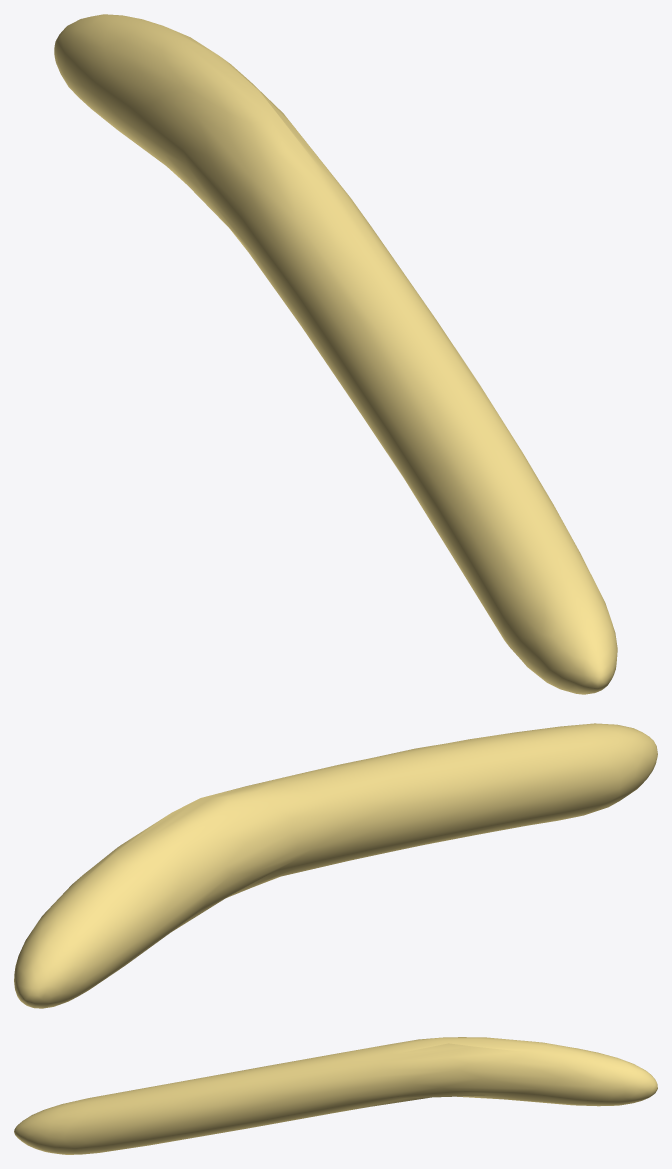
The model's file is fma62064-r_mm2968m.glb.
3 views of the same model, one above another, from view 1: azimuth 30°, elevation 25°; view 2: azimuth 150°, elevation 25°; view 3: azimuth 270°, elevation 25° (orthographic). The views are drawn at different scales.
Visible parts, largest first — view 1: FMA62064-R_MM2968M; view 2: FMA62064-R_MM2968M; view 3: FMA62064-R_MM2968M.
Part boxes in pixels (x1=…): FMA62064-R_MM2968M: x1=54, y1=14, x2=617, y2=694; FMA62064-R_MM2968M: x1=14, y1=723, x2=657, y2=1008; FMA62064-R_MM2968M: x1=14, y1=1037, x2=657, y2=1154.
Size of the model in its own units: 0.00384 by 0.00515 by 0.0226.
